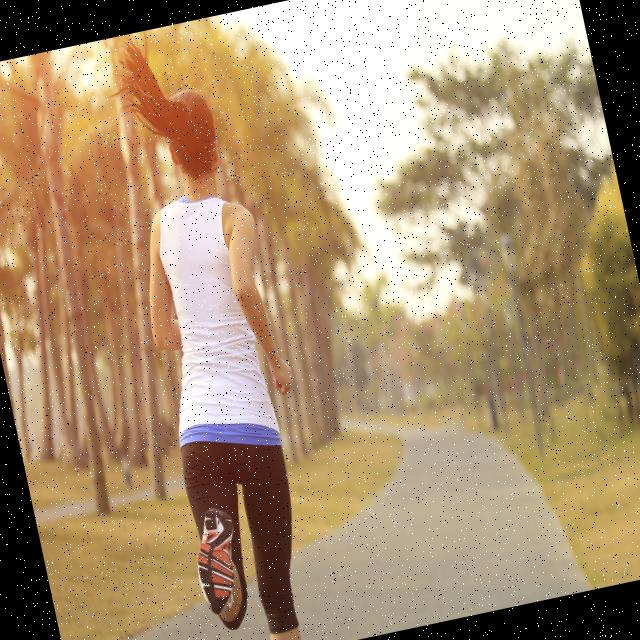Person: (84, 15, 349, 640)
